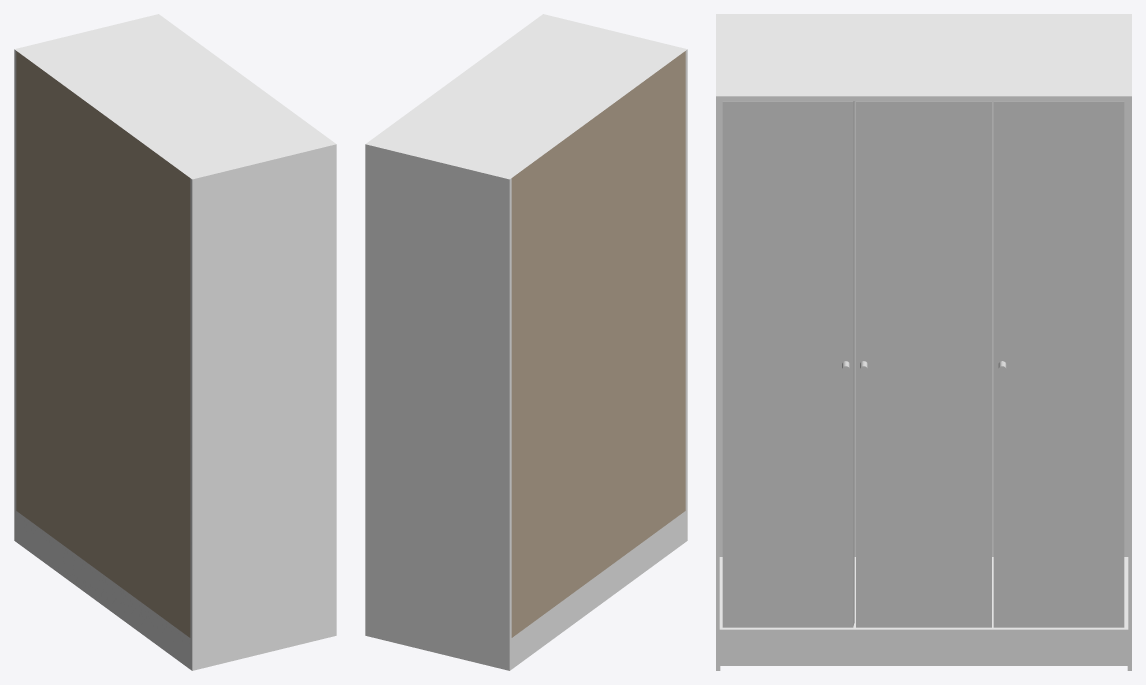
Rendered from wardwhl.gltf.
3 views of the same model, side by side, from view 1: azimuth 30°, elevation 25°; view 2: azimuth 150°, elevation 25°; view 3: azimuth 270°, elevation 25° (orthographic). The views are drawn at different scales.
Parts seen in each view (by area): view 1: White Cabinet; view 2: White Cabinet; view 3: White Cabinet.
Part boxes in pixels (<box>): White Cabinet: <box>14,14,336,670</box>; White Cabinet: <box>365,14,687,670</box>; White Cabinet: <box>716,14,1131,670</box>.
Size of the model in its own units: 0.8028 by 2.48 by 1.63.
